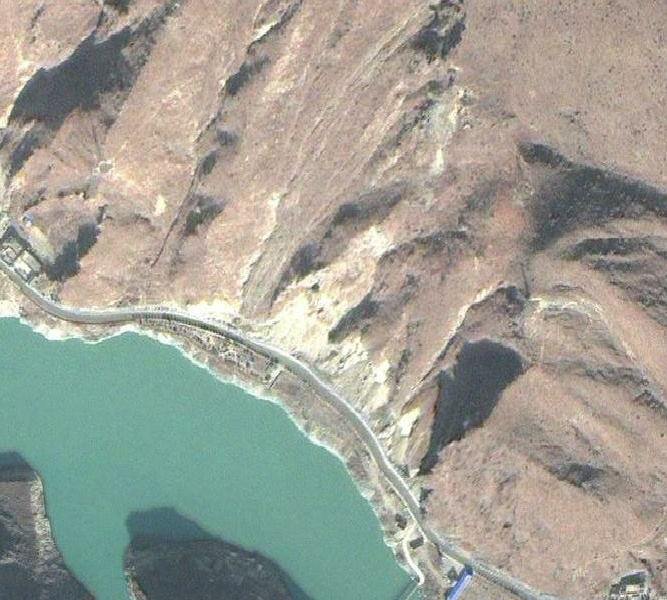slope: (180, 220, 420, 480), (368, 83, 488, 200), (520, 286, 649, 376)
